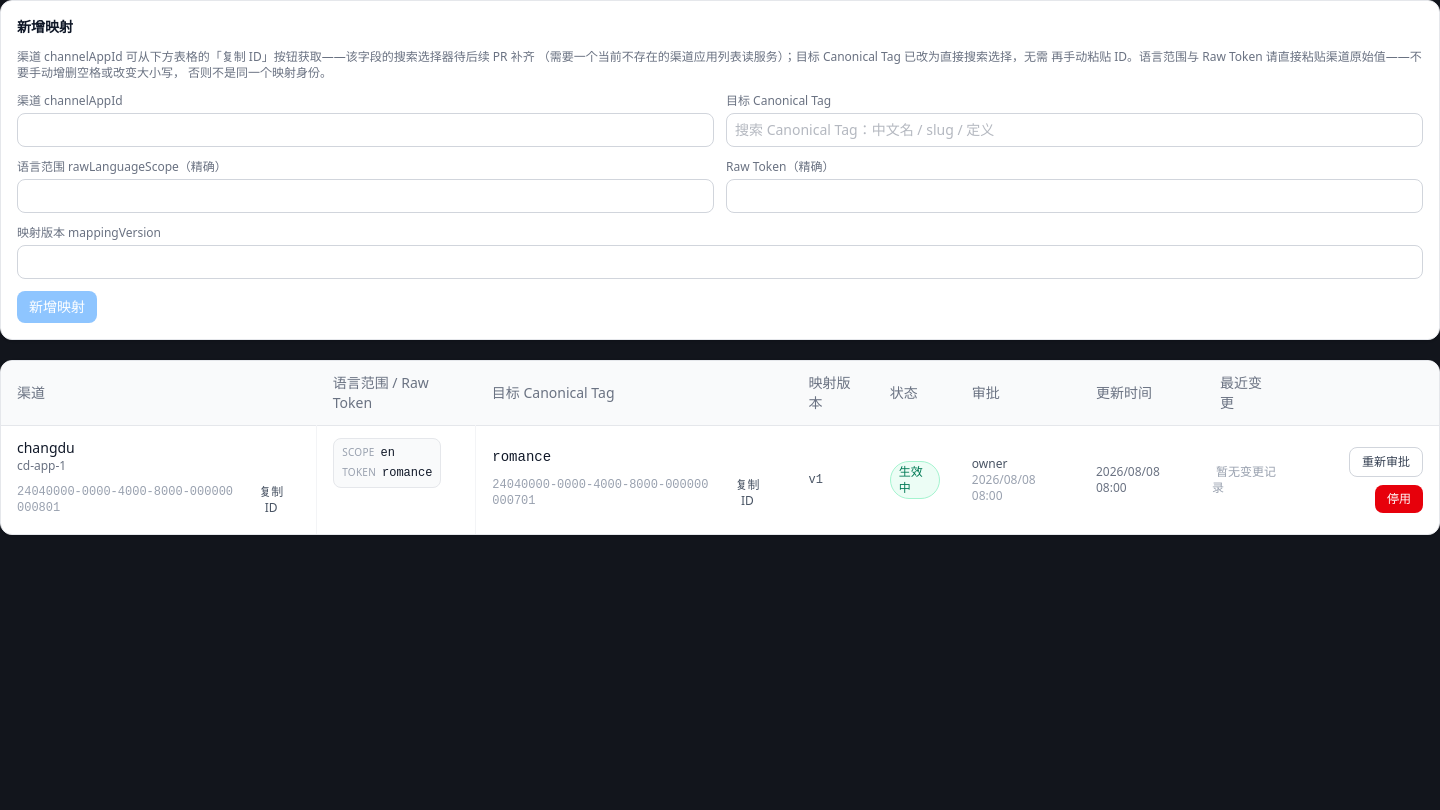
MappingsClient · 能力位驱动的可见性与失败文案 › 能力已授予但请求途中被后端判定 admin_two_factor_required：文案与「缺少能力位」不同
The image size is (1440, 810).
Click the button "停用": {"x": 1399, "y": 499} [1375,485,1423,513]
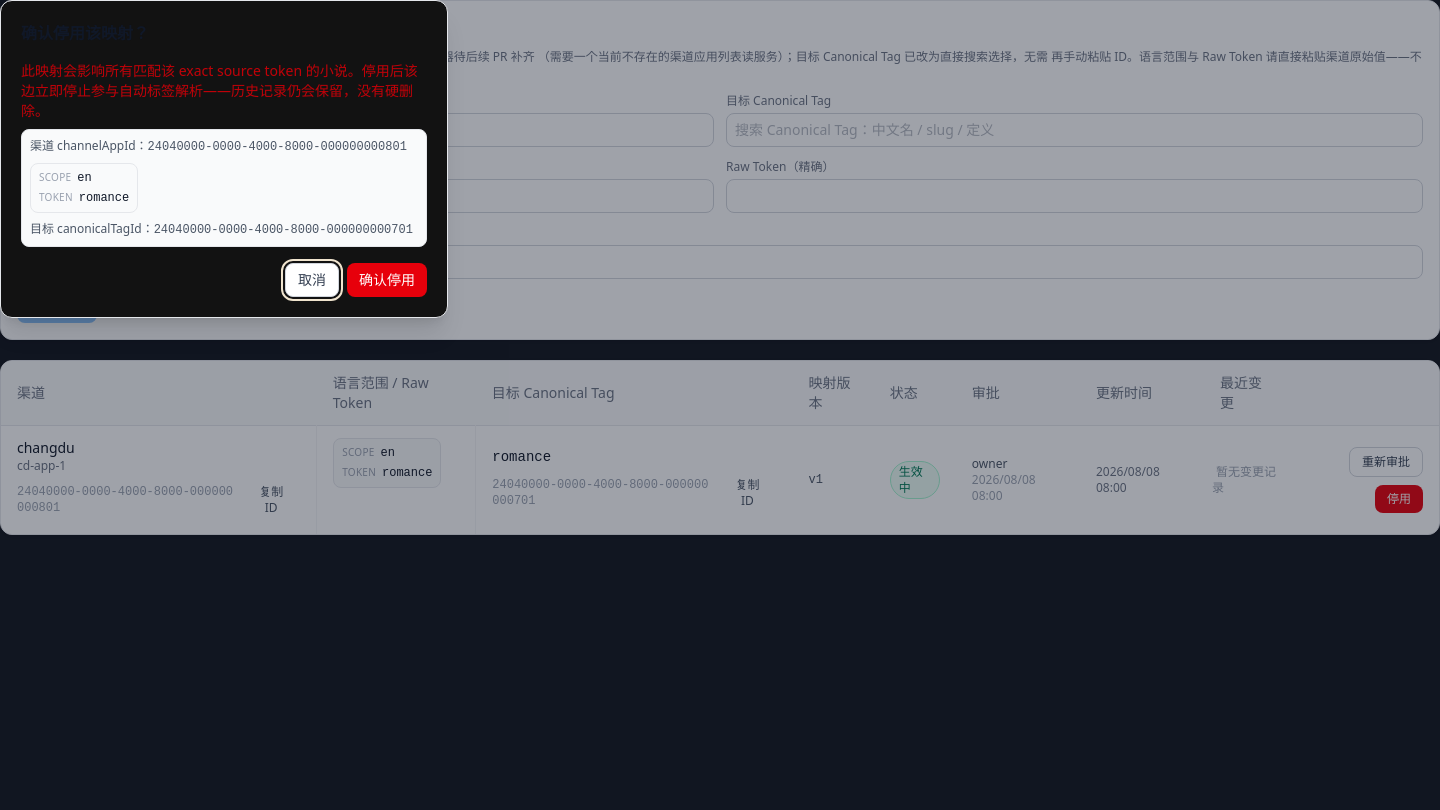
Click the button "确认停用": {"x": 387, "y": 280} [347,263,427,297]
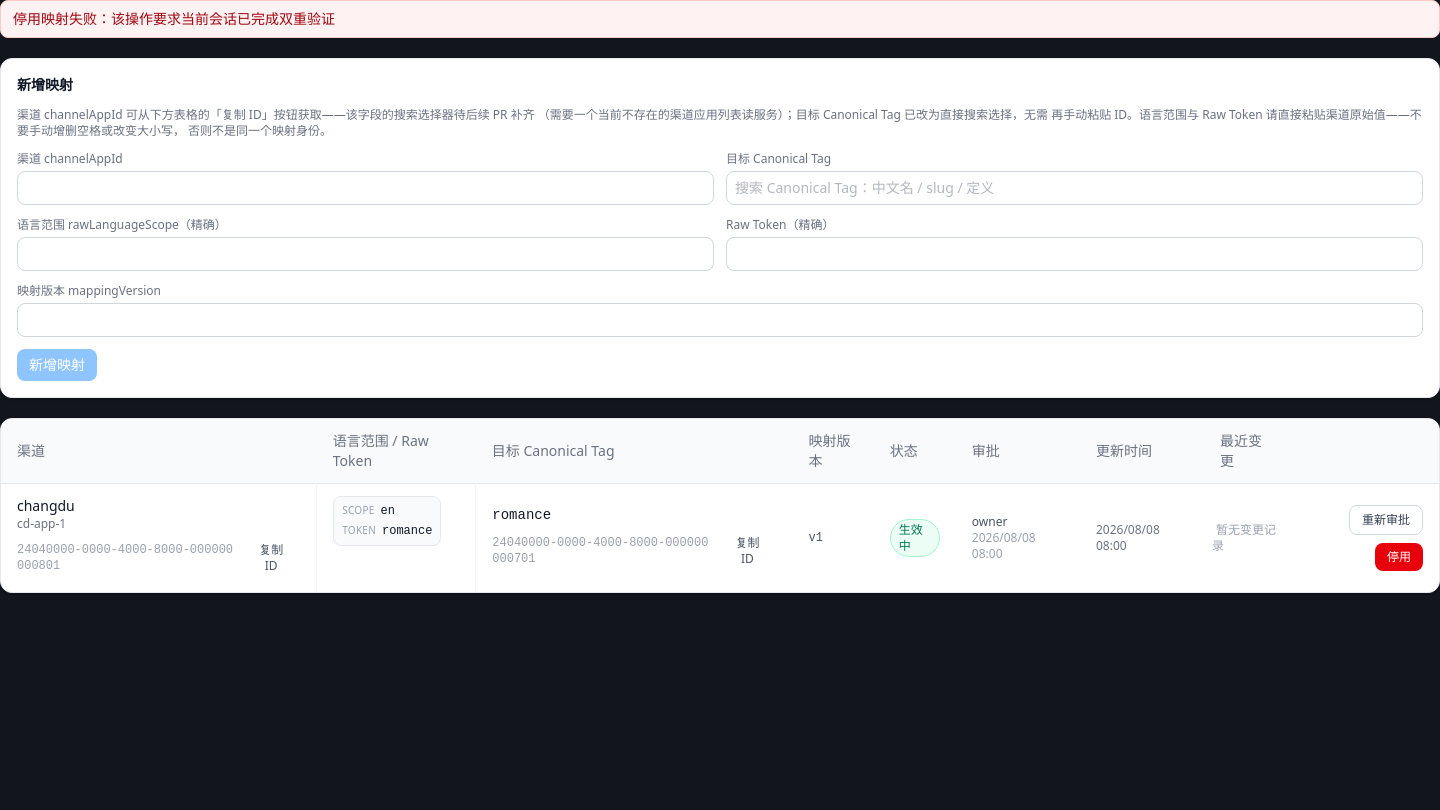
Expected: the message shows "双重验证", [13,9,335,28]
